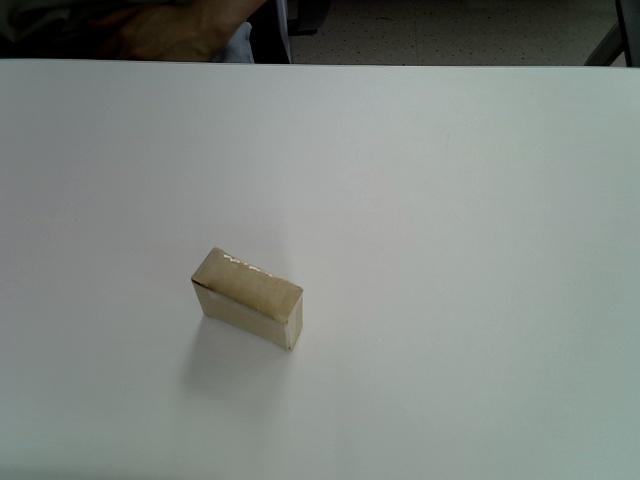normal: (191, 247, 305, 353)
